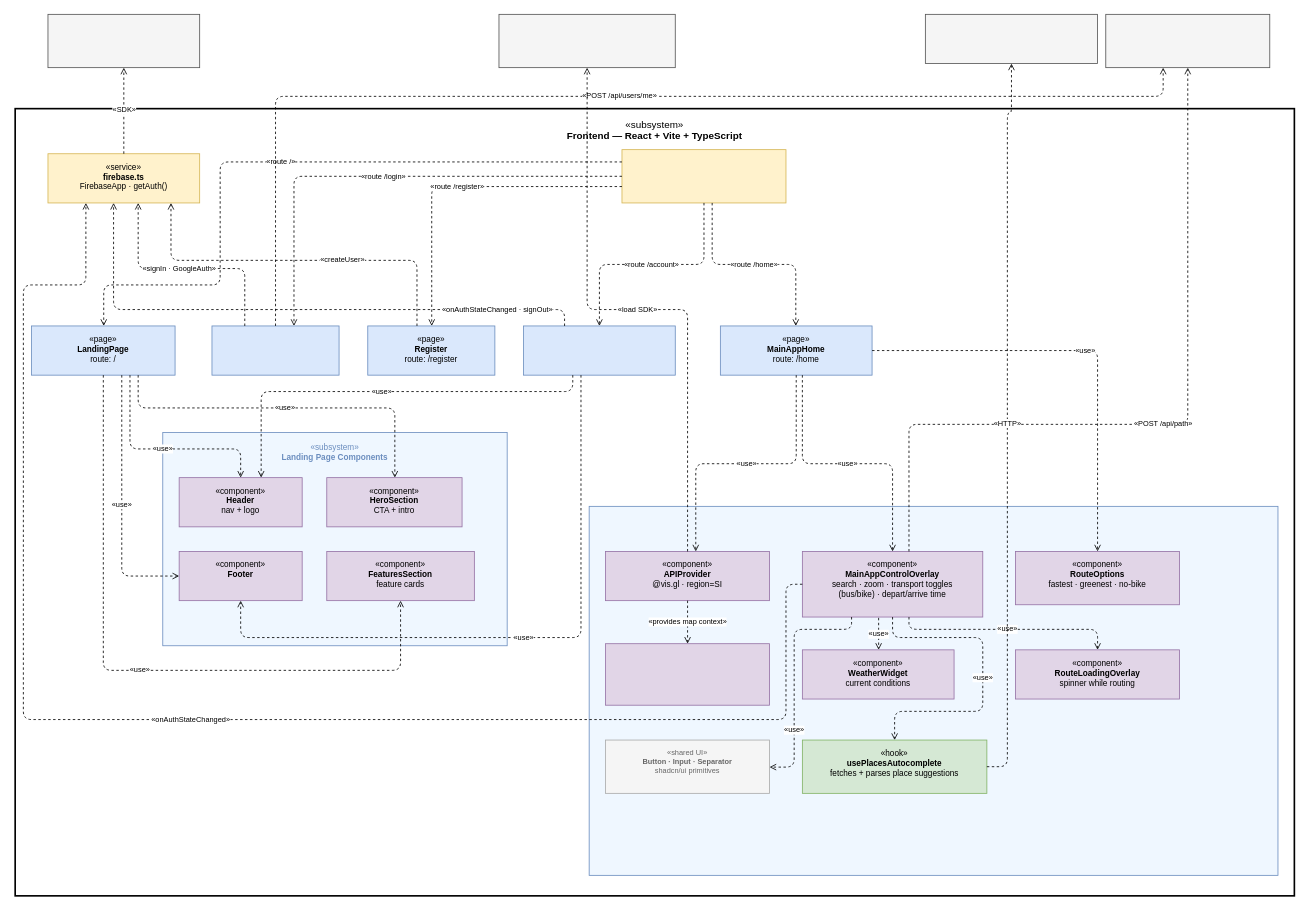
Image size: 1309x911. Some labels were removed from this diagram. Here are the shapes that lost their labels. From the top down, the box of each, then its label:
(47, 14, 200, 68): «external system» Firebase Auth Google Cloud
(498, 14, 675, 68): «external system» Google Maps JS SDK @vis.gl/react-google-maps
(925, 14, 1098, 64): «external system» Google Places API autocomplete suggestions
(1105, 14, 1270, 68): «external system» Backend API Spring Boot
(621, 149, 786, 203): «component» App.tsx React Router — 5 routes
(211, 325, 339, 375): «page» Login route: /login
(523, 325, 675, 375): «page» AccountPage route: /account
(605, 643, 770, 705): «component» MainMap dark Google Map · origin & destination markers
(588, 506, 1278, 875): «subsystem» Main App Components
